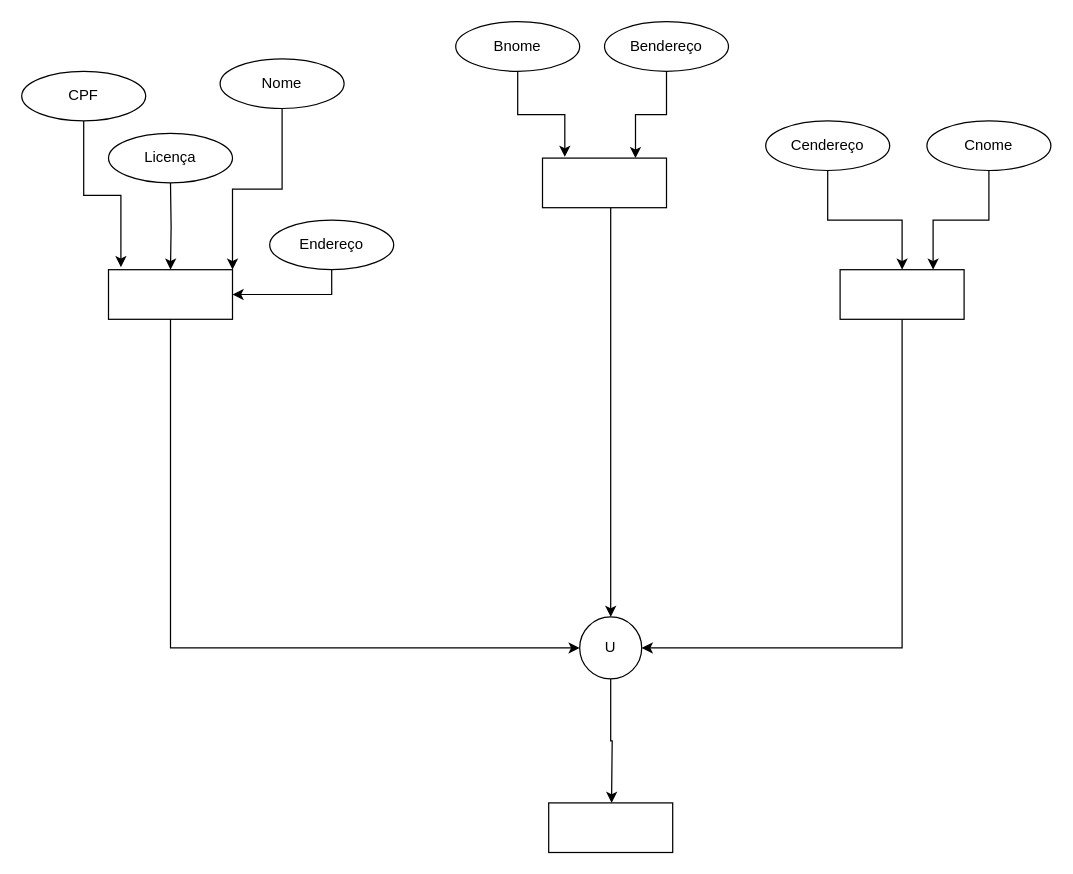
The diagram is 1073 pixels wide and 874 high, and some of its shapes have lost their labels. The box of each missing label's shape, as (x1, y1, x2, y2) in pixels:
Banco: (541, 157, 666, 208)
Companhia: (839, 268, 964, 319)
Owner: (547, 802, 673, 852)
Pessoa: (107, 268, 232, 319)
